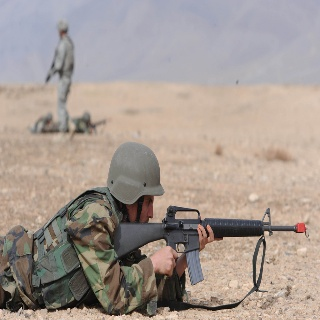rifle: (112, 206, 307, 287)
